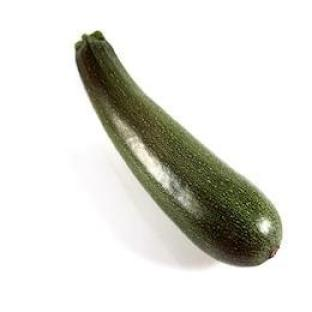Zucchini: (76, 32, 281, 266)
